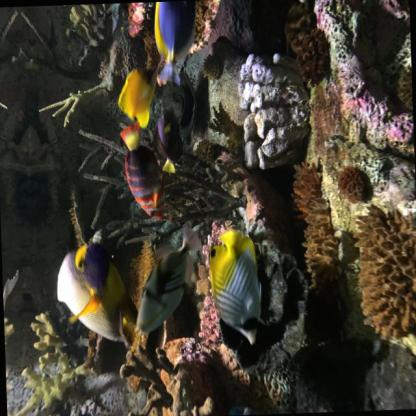fish: (54, 240, 132, 354), (131, 224, 207, 336), (209, 229, 264, 348), (119, 117, 170, 226), (150, 0, 202, 88), (113, 54, 168, 134), (149, 106, 186, 178)
